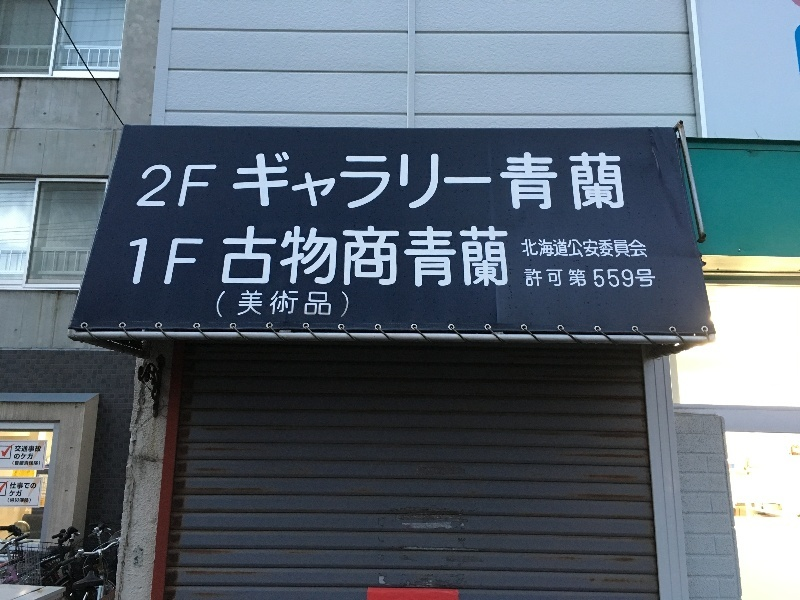text: (241, 150, 256, 215), (257, 150, 272, 215), (273, 150, 288, 215), (289, 150, 304, 215), (305, 150, 320, 215), (321, 150, 336, 215), (337, 150, 352, 215), (353, 150, 368, 215), (369, 150, 384, 215), (385, 150, 400, 215), (401, 150, 416, 215), (417, 150, 432, 215), (433, 150, 448, 215), (449, 150, 464, 215), (465, 150, 480, 215), (481, 150, 496, 215), (497, 150, 512, 215), (513, 150, 528, 215), (529, 150, 544, 215), (545, 150, 560, 215), (561, 150, 576, 215), (577, 150, 592, 215), (593, 150, 608, 215), (609, 150, 624, 215), (225, 225, 240, 288), (241, 225, 256, 288), (257, 225, 272, 288), (273, 225, 288, 288), (289, 225, 304, 288), (305, 225, 320, 288), (321, 225, 336, 288), (337, 225, 352, 288), (353, 225, 368, 288), (369, 225, 384, 288), (385, 225, 400, 288), (401, 225, 416, 288), (417, 225, 432, 288), (433, 225, 448, 288), (449, 225, 464, 288), (465, 225, 480, 288), (481, 225, 496, 288), (497, 225, 512, 288), (145, 237, 160, 288), (161, 237, 176, 288), (177, 237, 192, 288), (130, 237, 144, 288), (145, 163, 160, 210), (161, 163, 176, 210), (177, 163, 192, 210), (193, 163, 208, 210), (193, 237, 206, 288), (209, 163, 220, 210), (225, 289, 240, 320), (241, 289, 256, 320), (257, 289, 272, 320), (273, 289, 288, 320), (289, 289, 304, 320), (305, 289, 320, 320), (321, 289, 336, 320), (337, 289, 350, 320), (641, 268, 657, 288), (529, 239, 544, 259), (545, 239, 560, 259), (561, 239, 576, 259), (577, 239, 592, 259), (593, 239, 608, 259), (609, 239, 624, 259), (625, 239, 640, 259), (529, 268, 544, 288), (545, 268, 560, 288), (561, 268, 576, 288), (577, 268, 592, 288), (593, 268, 608, 288), (609, 268, 624, 288), (625, 268, 640, 288), (236, 150, 240, 215), (625, 150, 629, 215), (218, 289, 224, 320), (520, 239, 528, 259), (641, 239, 648, 259), (513, 225, 515, 288), (17, 446, 32, 453), (17, 453, 32, 460), (17, 482, 32, 489), (17, 461, 32, 467), (17, 498, 32, 504), (524, 268, 528, 288), (33, 446, 43, 453), (223, 225, 224, 288), (33, 461, 41, 467), (8, 498, 16, 504), (10, 490, 16, 497), (17, 490, 23, 497), (11, 482, 16, 489), (33, 482, 37, 489), (13, 461, 16, 467), (33, 453, 35, 460), (15, 446, 16, 453), (15, 453, 16, 460)
